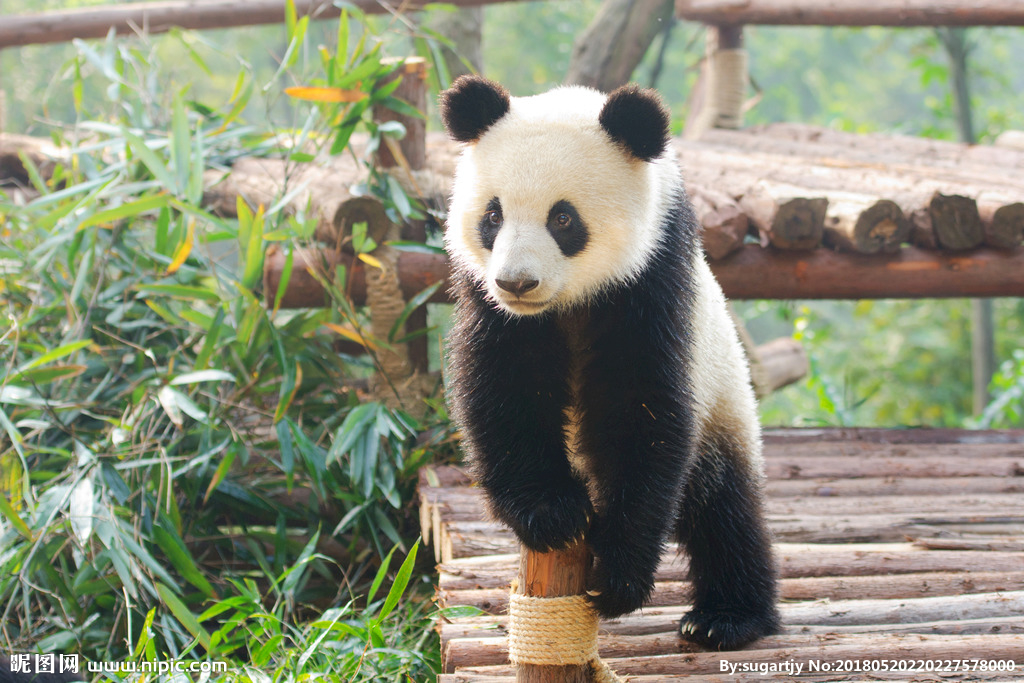panda: (381, 66, 859, 648)
